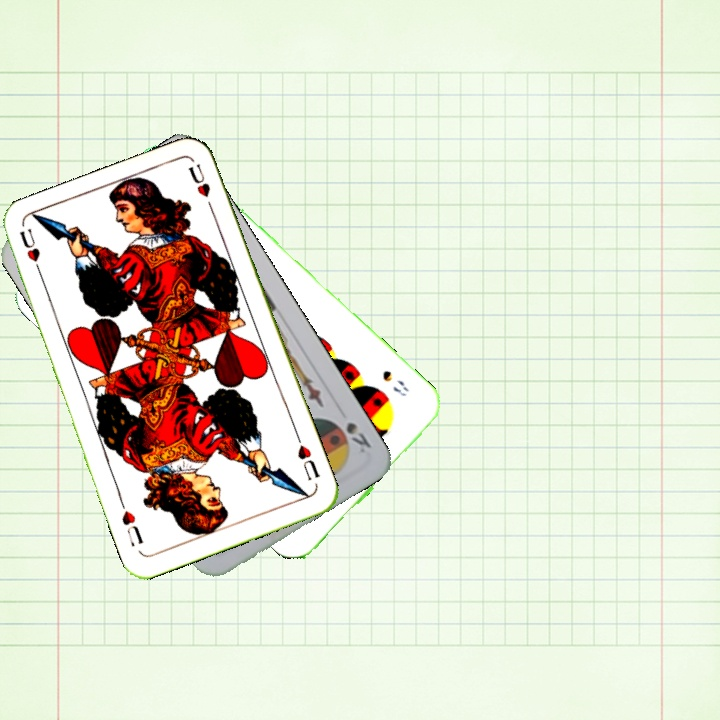HU: (16, 224, 46, 281), (293, 440, 323, 484)
S8: (378, 366, 412, 399)
SK: (341, 418, 374, 456)
